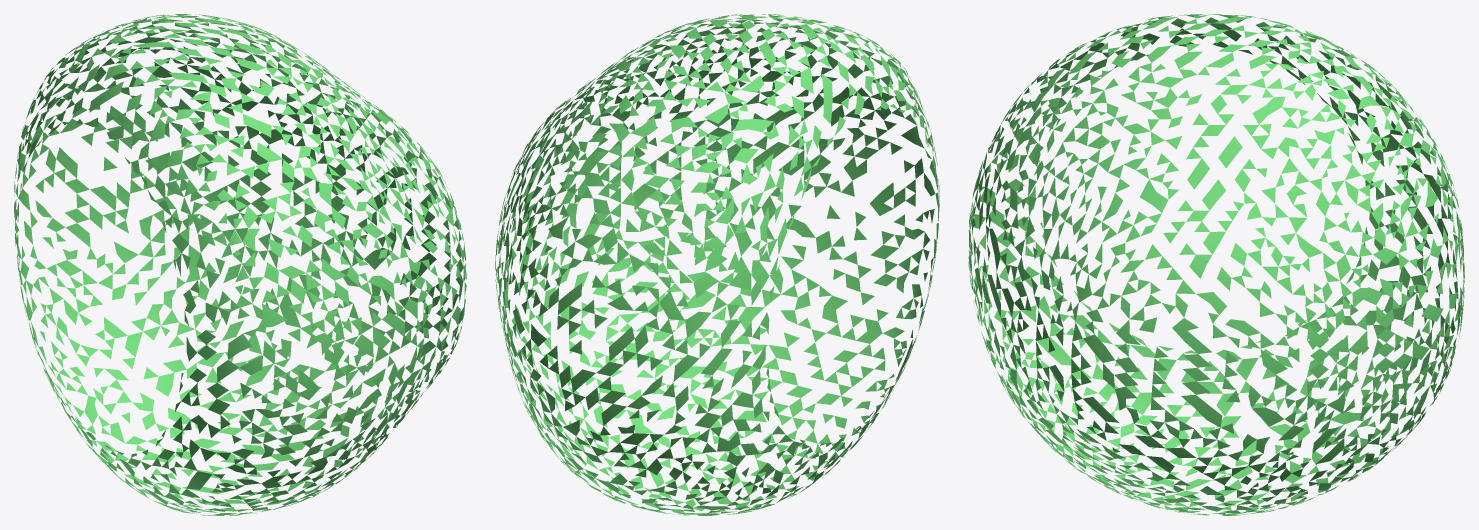
The model's file is morph_018.glb.
The picture shows the model from 3 angles, left to right: view 1: azimuth 30°, elevation 25°; view 2: azimuth 150°, elevation 25°; view 3: azimuth 270°, elevation 25°; orthographic projection. The views are drawn at different scales.
Size of the model in its own units: 17.28 by 23.14 by 23.1.
